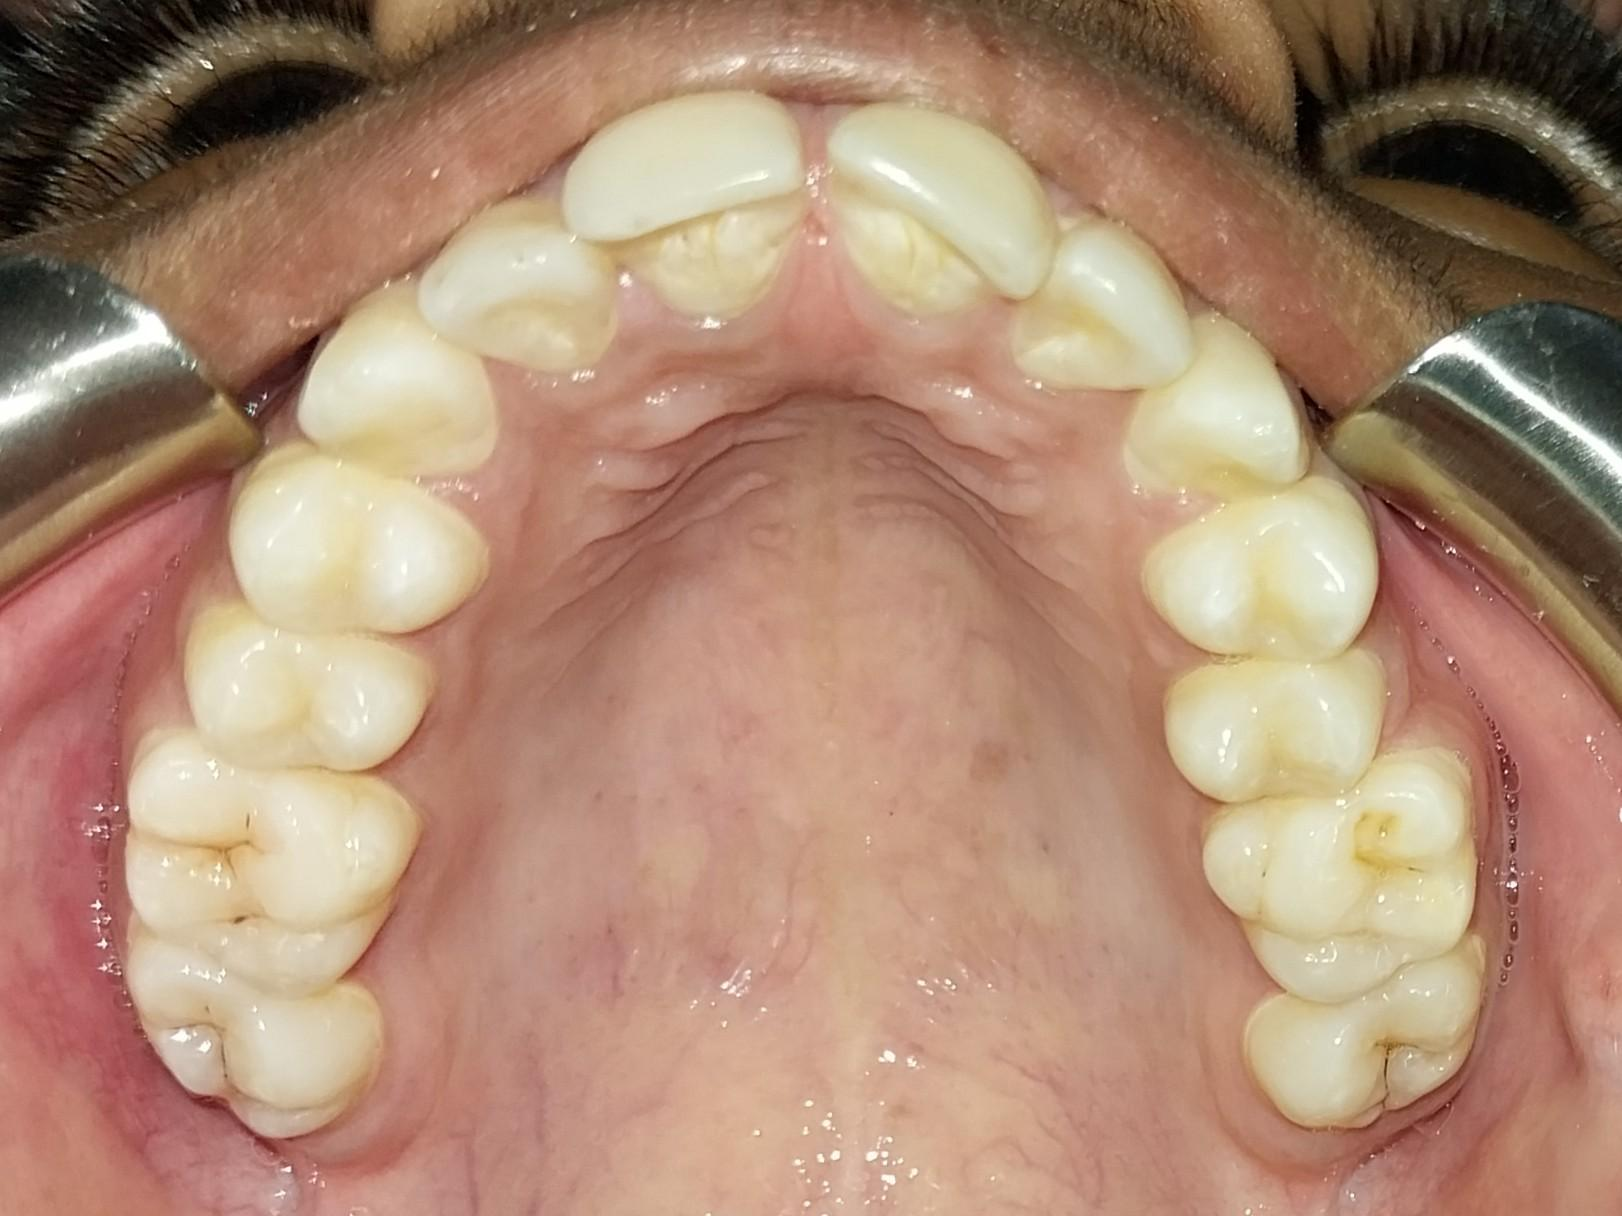D: (125, 743, 415, 1003), (1244, 964, 1490, 1135)
